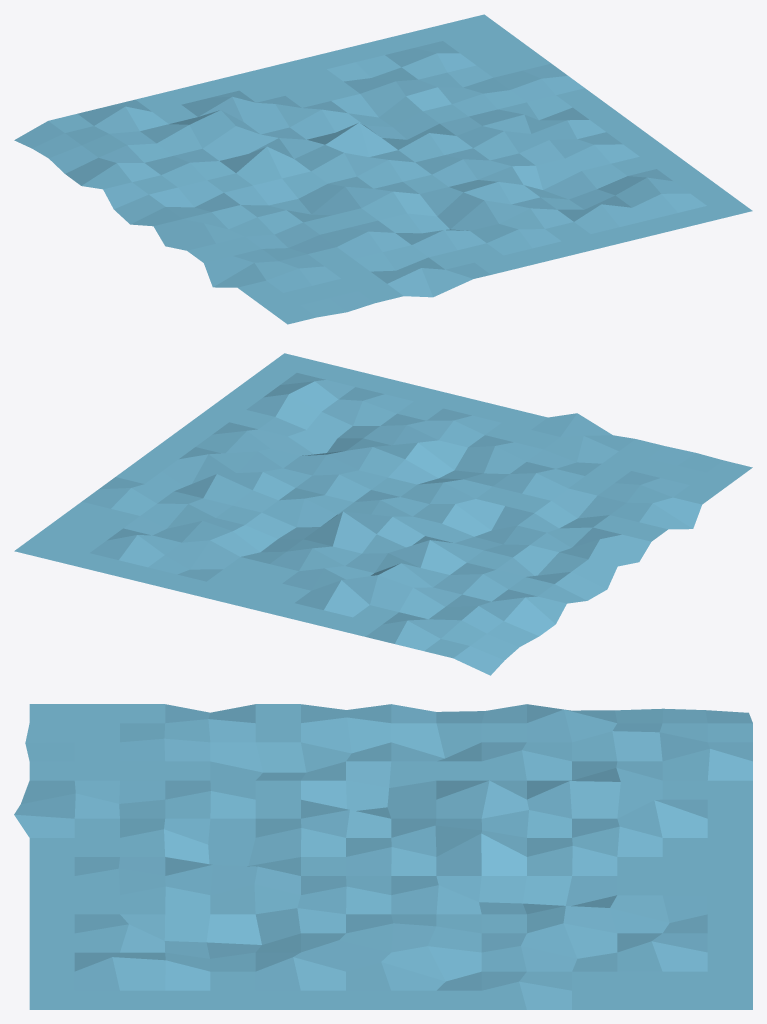
Rendered from ocean.fbx.
The picture shows the model from 3 angles, top to bottom: view 1: azimuth 30°, elevation 25°; view 2: azimuth 150°, elevation 25°; view 3: azimuth 270°, elevation 25°; orthographic projection. The views are drawn at different scales.
Parts seen in each view (by area): view 1: Plane; view 2: Plane; view 3: Plane.
Boxes of the visible parts, x1,y1,x2,y2 form: Plane: [14, 14, 752, 324]; Plane: [14, 353, 752, 675]; Plane: [14, 704, 752, 1009].
Size of the model in its own units: 1606 by 107 by 1614.
